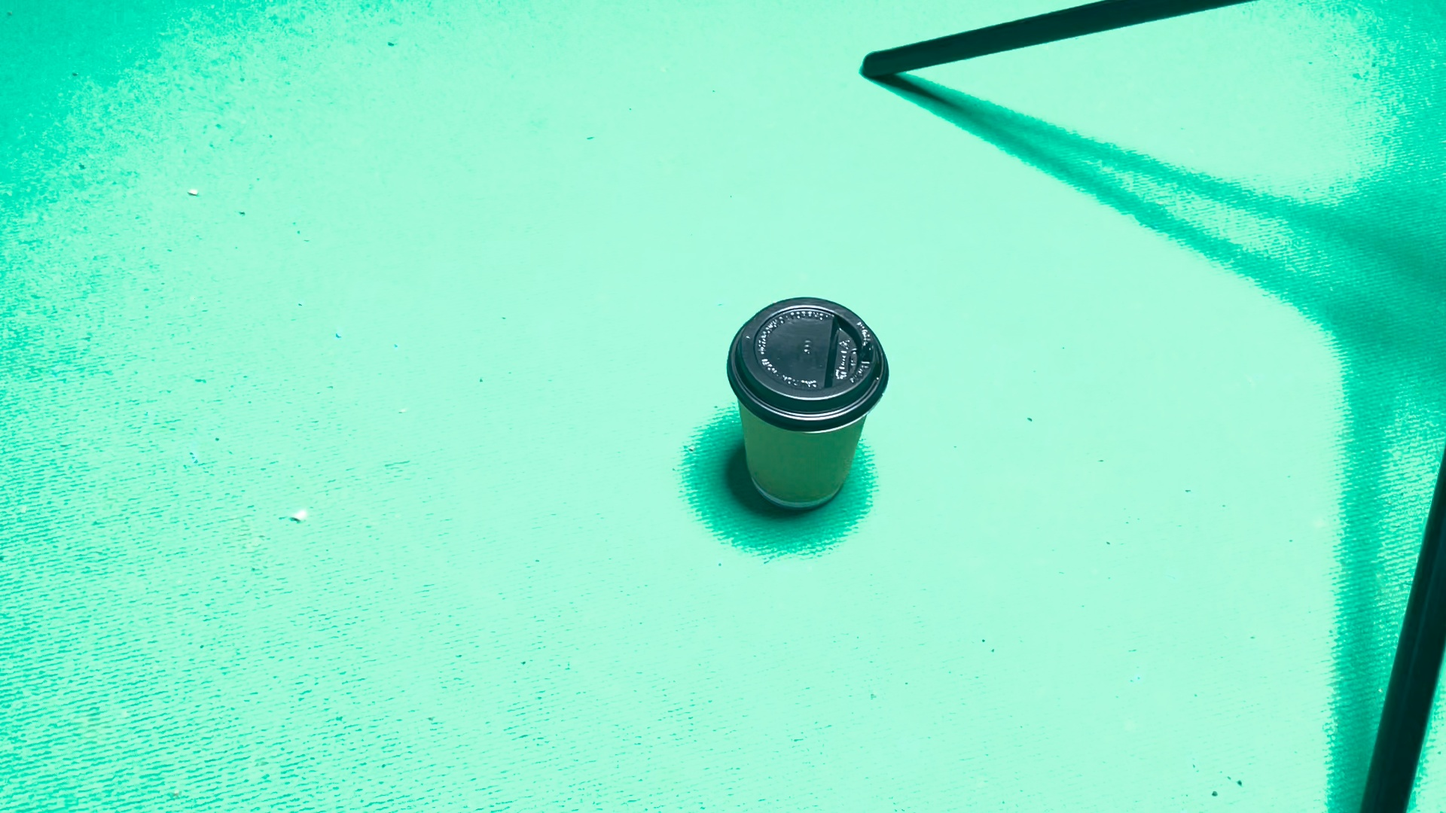cup: (737, 458, 832, 581)
